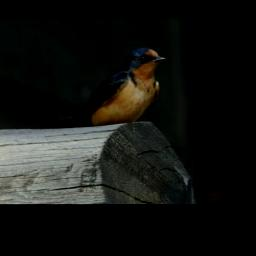Swallow: (26, 47, 168, 127)
